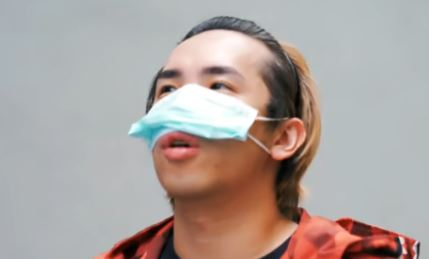with_incorrect_mask: (160, 65, 236, 175)
